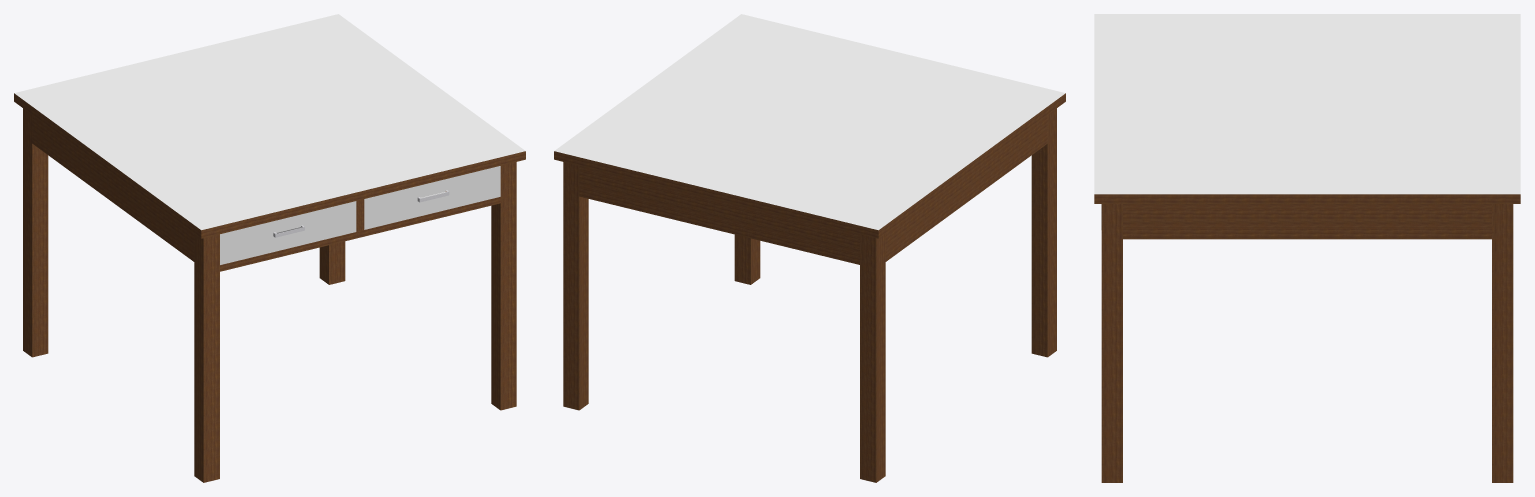
Rendered from deskDrawer.gltf.
3 renders of one model, left to right at view 1: azimuth 30°, elevation 25°; view 2: azimuth 150°, elevation 25°; view 3: azimuth 270°, elevation 25°, orthographic. The views are drawn at different scales.
Visible parts, largest first — view 1: TableTop, TableLeg#4 (×4), Drawer (×2), TableSide#2, UnderDrawer; view 2: TableTop, TableLeg#4 (×4), TableSide#2 (×2); view 3: TableTop, TableSide#2, TableLeg#4 (×2).
Boxes of the visible parts, <box> form: TableTop: <box>14,14,525,238</box>; TableLeg#4 (×4): <box>23,108,516,482</box>; Drawer (×2): <box>219,166,500,264</box>; TableSide#2: <box>32,115,194,261</box>; UnderDrawer: <box>220,197,500,271</box>; TableTop: <box>554,14,1065,238</box>; TableLeg#4 (×4): <box>563,108,1056,482</box>; TableSide#2 (×2): <box>579,115,1047,264</box>; TableTop: <box>1094,14,1520,203</box>; TableSide#2: <box>1123,204,1491,239</box>; TableLeg#4 (×2): <box>1101,204,1513,482</box>.
Bounding box in the file's own units: 1 × 0.7551 × 1.
4 materials, 2 textured.
